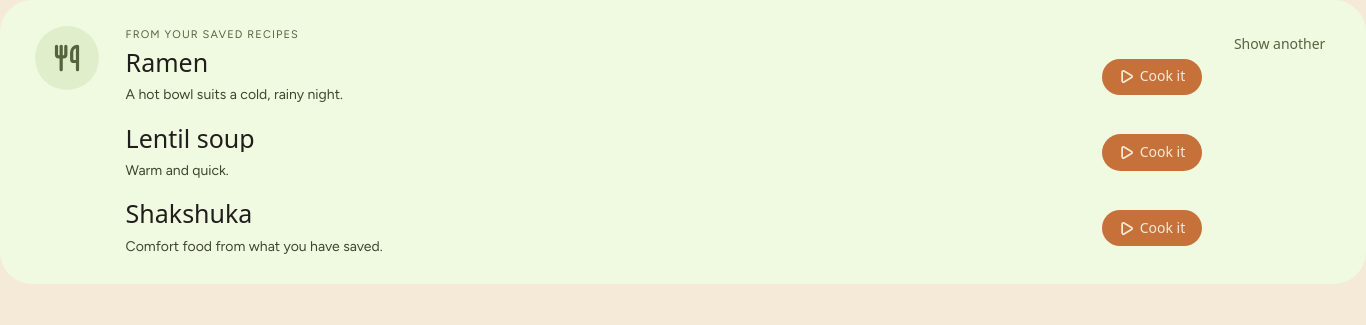
Test: HomeRecommendation › COOK-8 UI-18 keeps the picks and shows "Daily AI limit reached" when the re-prompt answers 429
Check: the text "Ramen" is shown, box left=126, top=48, right=208, bottom=76
Click the button "Show another".
click(1280, 45)  # box left=1228, top=26, right=1331, bottom=63
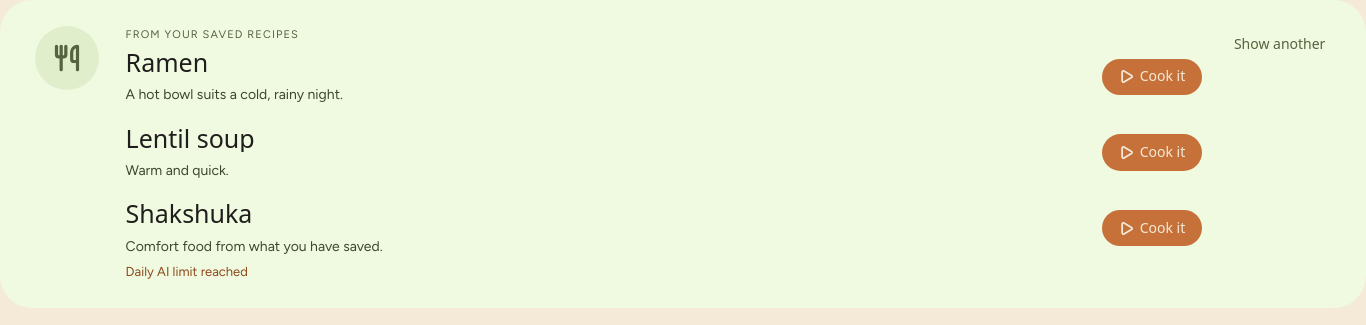
Check: the number of list items is 3, box left=126, top=48, right=1202, bottom=106; left=126, top=124, right=1202, bottom=182; left=126, top=199, right=1202, bottom=257
Check: the text "Daily AI limit reached" is shown, box left=126, top=264, right=248, bottom=279
